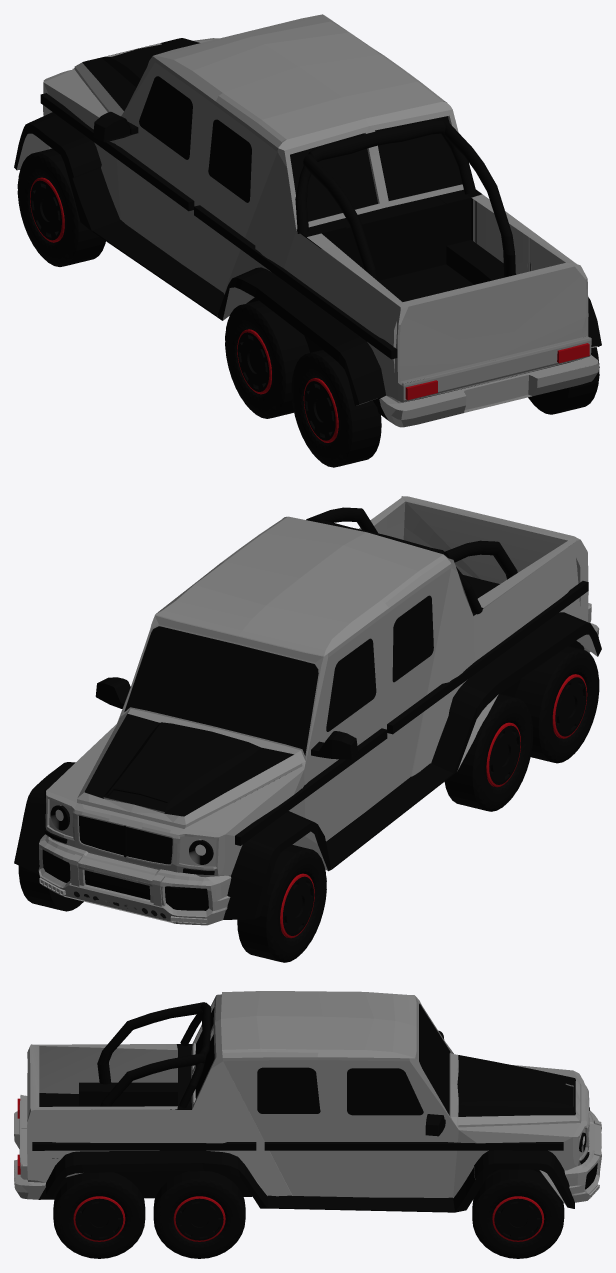
Rendered from 6x6fixed 1.fbx.
The picture shows the model from 3 angles, top to bottom: view 1: azimuth 30°, elevation 25°; view 2: azimuth 150°, elevation 25°; view 3: azimuth 270°, elevation 25°; orthographic projection. The views are drawn at different scales.
Visible parts, largest first — view 1: CARBODY, RLW, MLW, FLW, RRW; view 2: CARBODY, RLW, FLW, MLW, FRW; view 3: CARBODY, FRW, MRW, RRW.
Boxes of the visible parts, <box> form: CARBODY: <box>14,14,601,427</box>; RLW: <box>291,350,381,467</box>; MLW: <box>225,300,309,418</box>; FLW: <box>17,148,105,266</box>; RRW: <box>528,347,599,414</box>; CARBODY: <box>14,496,601,925</box>; RLW: <box>515,646,599,763</box>; FLW: <box>237,844,326,962</box>; MLW: <box>444,694,533,811</box>; FRW: <box>18,865,83,911</box>; CARBODY: <box>14,991,601,1212</box>; FRW: <box>472,1169,564,1258</box>; MRW: <box>153,1171,245,1258</box>; RRW: <box>53,1172,145,1258</box>.
Size of the model in its own units: 207 by 199 by 536.
